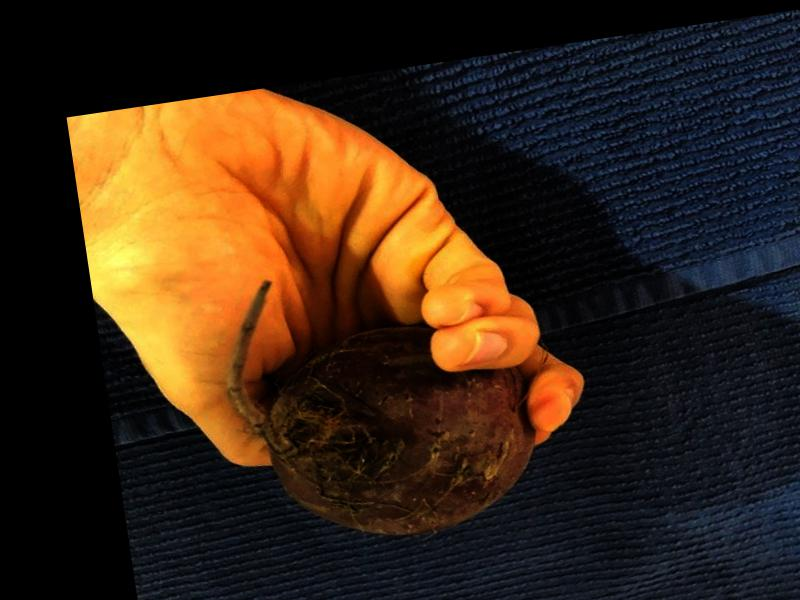Beet: (215, 241, 545, 555)
